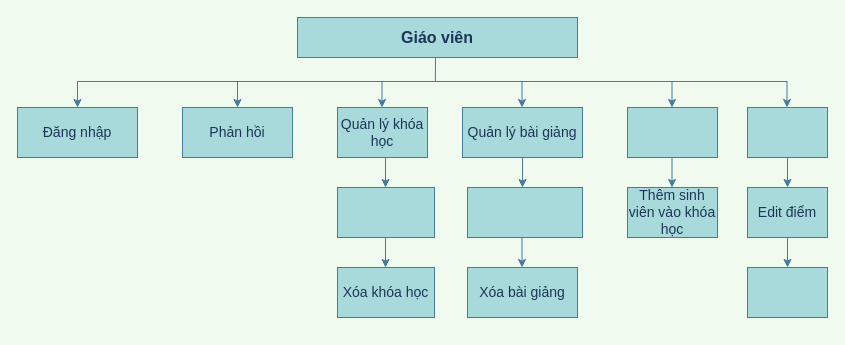
The diagram is 845 pixels wide and 345 high, and some of its shapes have lost their labels. The centre of each missing label's shape, as x and y in pixels:
"Edit bài giảng" belongs at pixel 524 212.
"Edit khóa học" belongs at pixel 385 212.
"Ghi danh" belongs at pixel 672 132.
"Quản lý điểm" belongs at pixel 787 132.
"Xóa điểm" belongs at pixel 787 292.
